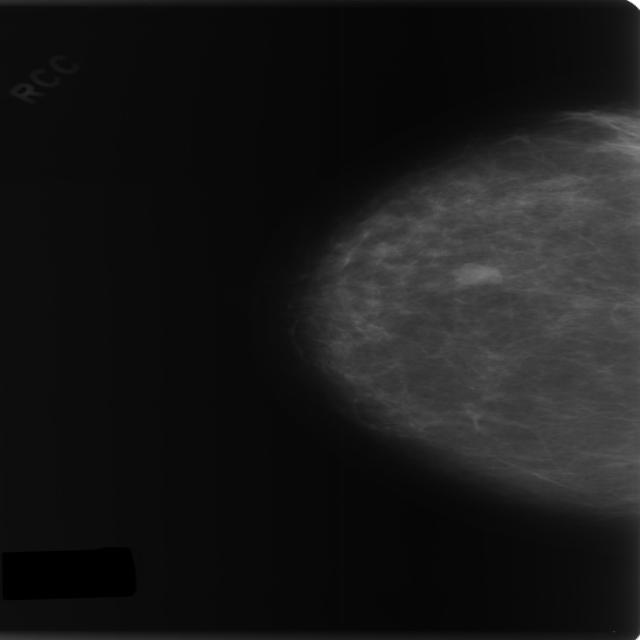tumour: (450, 260, 500, 286)
